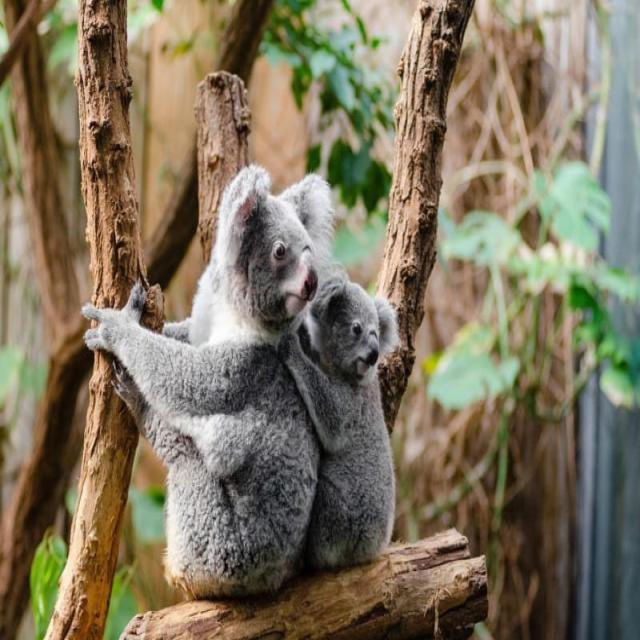Koala: (79, 166, 338, 602), (302, 263, 405, 574)
